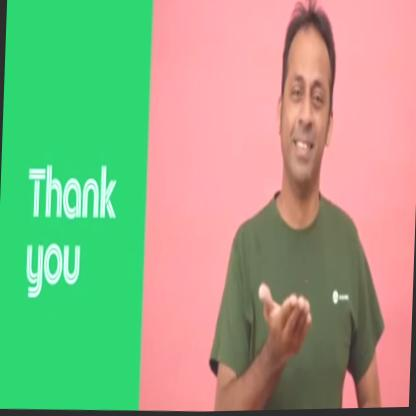ThankYou: (210, 0, 398, 412)
